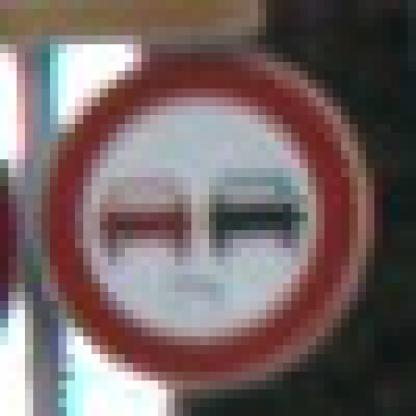No Overtaking: (43, 45, 376, 364)
